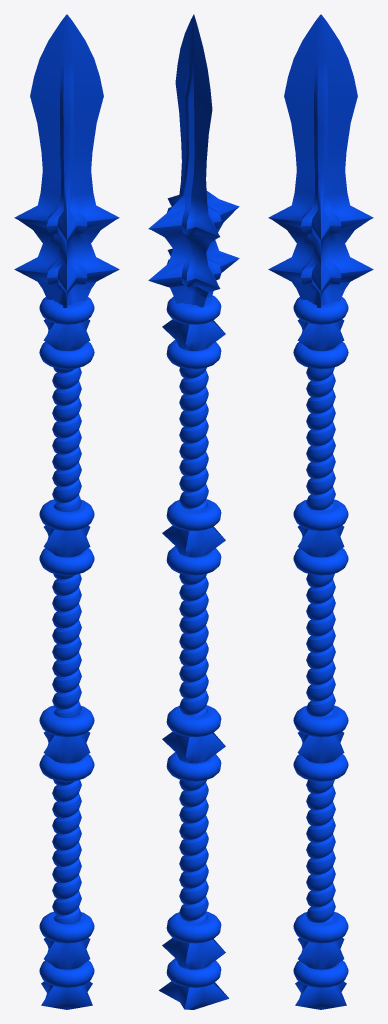
File: HoarfrostFBX.fbx
3 renders of one model, left to right at view 1: azimuth 90°, elevation 25°; view 2: azimuth 210°, elevation 25°; view 3: azimuth 270°, elevation 25°, orthographic.
Visible parts, largest first — view 1: pCube4, pHelix3, pHelix1, pHelix2, pCube7, pCube11, pCube10, pCube9, pCube8; view 2: pCube4, pHelix3, pHelix1, pHelix2, pCube11, pCube10, pCube7, pCube9, pCube8; view 3: pCube4, pHelix3, pHelix1, pHelix2, pCube7, pCube11, pCube10, pCube9, pCube8.
Boxes of the visible parts, bbox=[...] form: pCube4: bbox=[14, 14, 119, 307]; pHelix3: bbox=[52, 779, 81, 924]; pHelix1: bbox=[52, 367, 81, 511]; pHelix2: bbox=[52, 573, 81, 717]; pCube7: bbox=[39, 912, 94, 987]; pCube11: bbox=[39, 705, 94, 781]; pCube10: bbox=[39, 499, 94, 575]; pCube9: bbox=[39, 297, 94, 369]; pCube8: bbox=[41, 981, 92, 1009]; pCube4: bbox=[148, 14, 239, 307]; pHelix3: bbox=[179, 780, 208, 923]; pHelix1: bbox=[179, 367, 208, 511]; pHelix2: bbox=[179, 573, 208, 717]; pCube11: bbox=[162, 705, 225, 781]; pCube10: bbox=[162, 499, 225, 575]; pCube7: bbox=[162, 911, 225, 987]; pCube9: bbox=[162, 295, 225, 369]; pCube8: bbox=[159, 981, 228, 1009]; pCube4: bbox=[268, 14, 373, 307]; pHelix3: bbox=[306, 779, 335, 922]; pHelix1: bbox=[306, 367, 335, 510]; pHelix2: bbox=[306, 573, 335, 716]; pCube7: bbox=[293, 912, 348, 987]; pCube11: bbox=[293, 705, 348, 781]; pCube10: bbox=[293, 499, 348, 575]; pCube9: bbox=[293, 297, 348, 369]; pCube8: bbox=[295, 981, 346, 1009].
Size of the model in its own units: 2.33 by 24.19 by 2.33.
